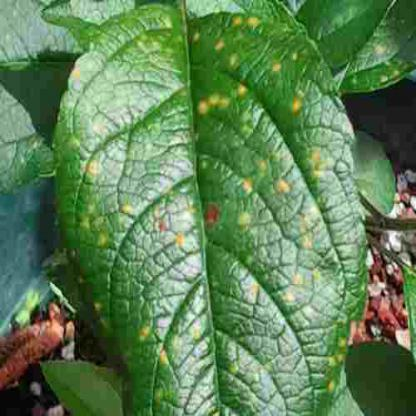Apple rust leaf: (52, 8, 378, 415)
